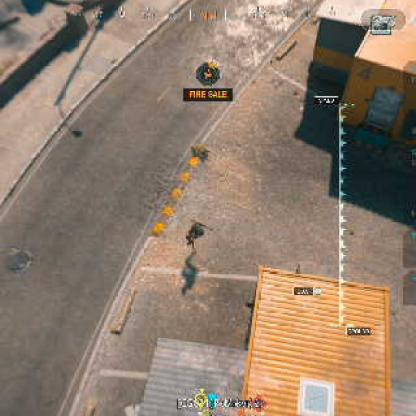enemy: (182, 221, 205, 246)
